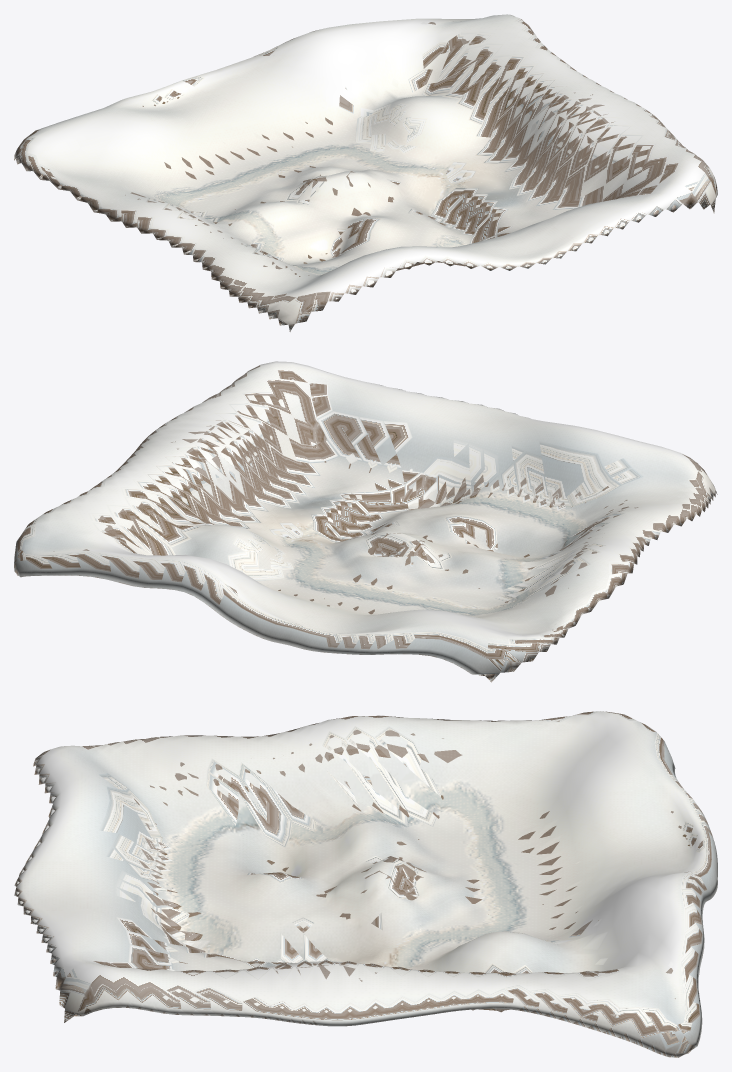
The model's file is land.glb.
3 views of the same model, one above another, from view 1: azimuth 30°, elevation 25°; view 2: azimuth 150°, elevation 25°; view 3: azimuth 270°, elevation 25° (orthographic). The views are drawn at different scales.
Parts seen in each view (by area): view 1: land.001; view 2: land.001; view 3: land.001.
Boxes of the visible parts, x1,y1,x2,y2 form: land.001: (14,14,717,331); land.001: (14,361,717,682); land.001: (14,711,717,1057).
Bounding box in the file's own units: 2574 × 381 × 2414.
Materials: 1 (1 with a texture image).
